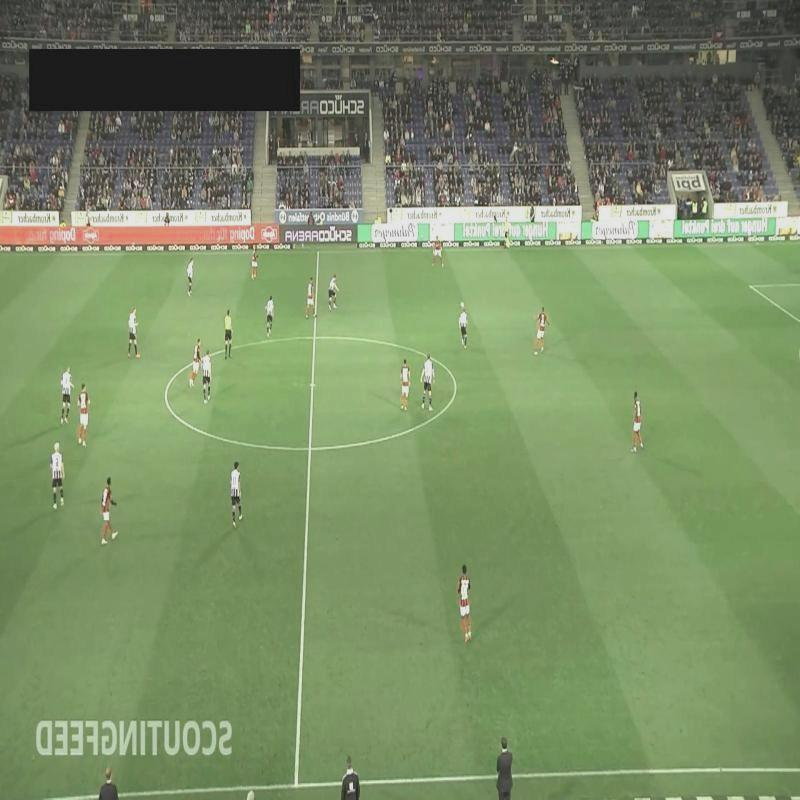13: (311, 244, 325, 258)
14: (306, 329, 324, 346)
15: (302, 441, 318, 456)
16: (285, 774, 309, 797)
9: (744, 278, 758, 292)
c: (156, 384, 175, 408), (447, 376, 461, 390)
